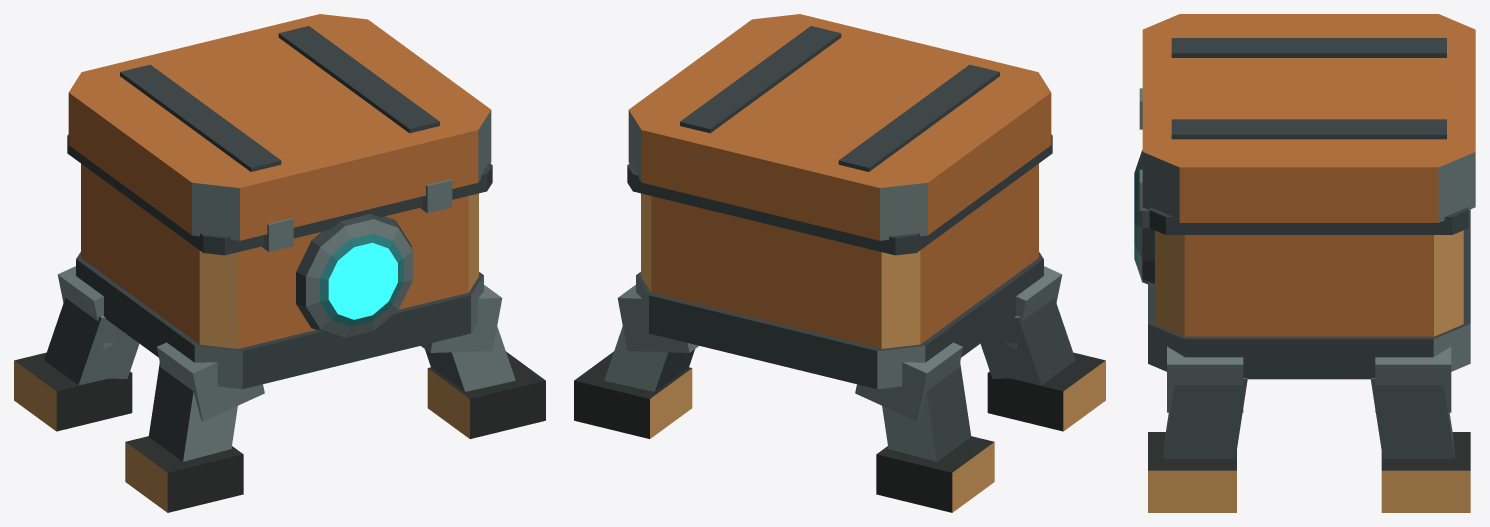
Rendered from wsc-actor-001-crate-mite-phone-study.glb.
3 renders of one model, left to right at view 1: azimuth 30°, elevation 25°; view 2: azimuth 150°, elevation 25°; view 3: azimuth 270°, elevation 25°, orthographic. The views are drawn at different scales.
Parts seen in each view (by area): view 1: Orange clamp lid, Single canted-wall crate shell, Rigid charcoal bumper, Sealed octagonal eye stack, Short single-piece foot, Short single-piece foot.002, Short single-piece foot.001, Angled pressure leg.001, Angled pressure leg, Flat restraint strap.001, Flat restraint strap, Lid edge seam (+6 smaller); view 2: Orange clamp lid, Single canted-wall crate shell, Rigid charcoal bumper, Short single-piece foot.001, Short single-piece foot.003, Short single-piece foot, Lid edge seam, Angled pressure leg, Angled pressure leg.001, Flat restraint strap.001, Flat restraint strap, Four short joint collars.001 (+3 smaller); view 3: Orange clamp lid, Single canted-wall crate shell, Rigid charcoal bumper, Flat restraint strap.001, Flat restraint strap, Angled pressure leg.003, Angled pressure leg.002, Short single-piece foot.003, Short single-piece foot.002, Lid edge seam, Four short joint collars.003, Four short joint collars.002 (+1 smaller).
Boxes of the visible parts, x1,y1,x2,y2 form: Orange clamp lid: [68, 14, 491, 240]; Single canted-wall crate shell: [81, 163, 478, 348]; Rigid charcoal bumper: [76, 252, 483, 389]; Sealed octagonal eye stack: [296, 214, 412, 337]; Short single-piece foot: [125, 436, 243, 512]; Short single-piece foot.002: [427, 351, 545, 438]; Short single-piece foot.001: [14, 352, 132, 431]; Angled pressure leg.001: [44, 298, 139, 385]; Angled pressure leg: [148, 362, 237, 461]; Flat restraint strap.001: [278, 26, 439, 133]; Flat restraint strap: [120, 64, 281, 171]; Lid edge seam: [67, 134, 492, 255]; Orange clamp lid: [628, 14, 1051, 240]; Single canted-wall crate shell: [641, 163, 1038, 348]; Rigid charcoal bumper: [636, 252, 1043, 389]; Short single-piece foot.001: [876, 436, 994, 512]; Short single-piece foot.003: [574, 351, 692, 438]; Short single-piece foot: [987, 352, 1105, 431]; Lid edge seam: [627, 134, 1052, 255]; Angled pressure leg: [980, 298, 1075, 385]; Angled pressure leg.001: [882, 362, 971, 461]; Flat restraint strap.001: [680, 26, 841, 133]; Flat restraint strap: [838, 64, 999, 171]; Four short joint collars.001: [855, 342, 963, 421]; Orange clamp lid: [1142, 14, 1475, 222]; Single canted-wall crate shell: [1155, 230, 1463, 336]; Rigid charcoal bumper: [1148, 209, 1470, 379]; Flat restraint strap.001: [1171, 119, 1446, 139]; Flat restraint strap: [1171, 38, 1446, 57]; Angled pressure leg.003: [1370, 378, 1454, 458]; Angled pressure leg.002: [1163, 378, 1247, 458]; Short single-piece foot.003: [1381, 432, 1470, 512]; Short single-piece foot.002: [1148, 432, 1236, 512]; Lid edge seam: [1149, 207, 1468, 234]; Four short joint collars.003: [1375, 347, 1451, 412]; Four short joint collars.002: [1167, 346, 1243, 412].
Bounding box in the file's own units: 0.758 × 0.601 × 0.564.
